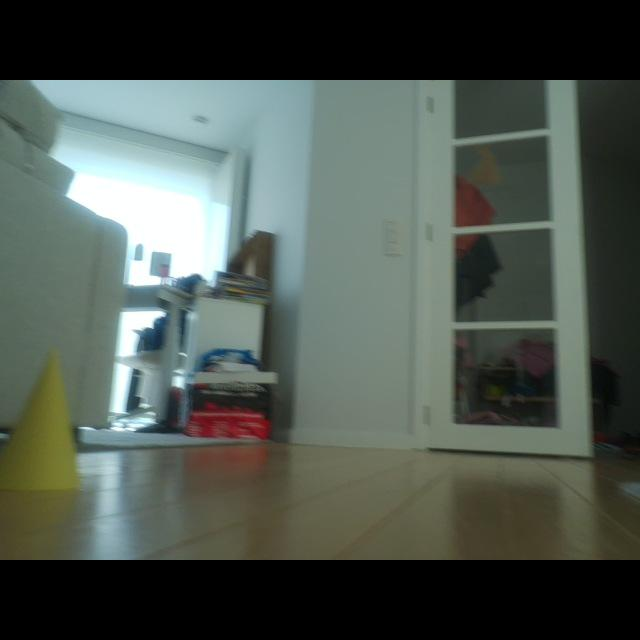bolya: (0, 351, 79, 489)
